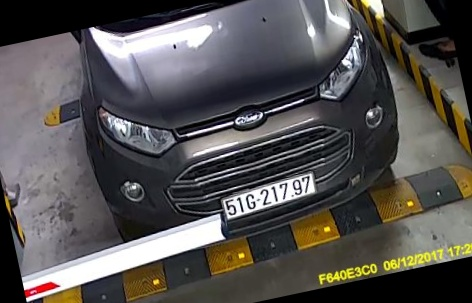plate: (211, 162, 319, 219)
